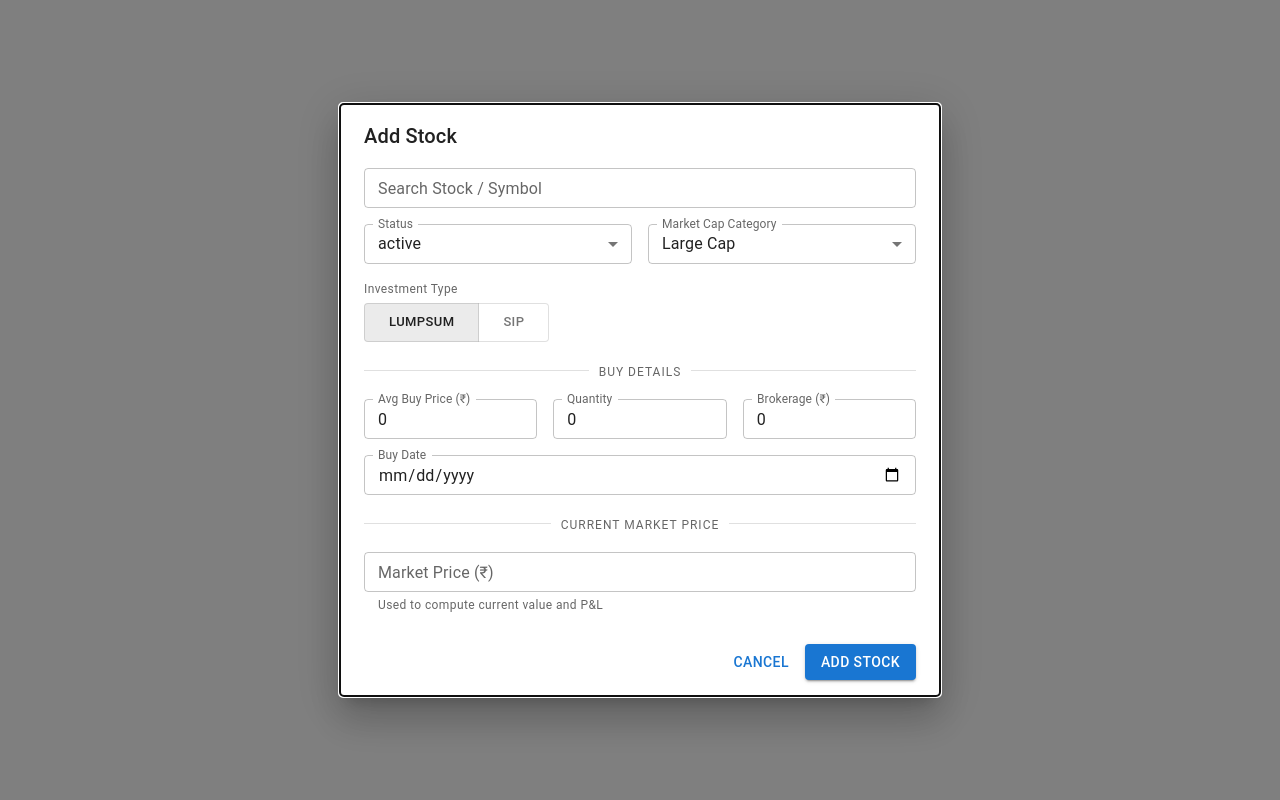
it: StocksDialog › market price below avg shows error color in P&L helper (L439 false)
Replace the text in the number field labelled "Avg Buy Price (₹)" with "200". click: (451,419)
box: [364,399,537,439]
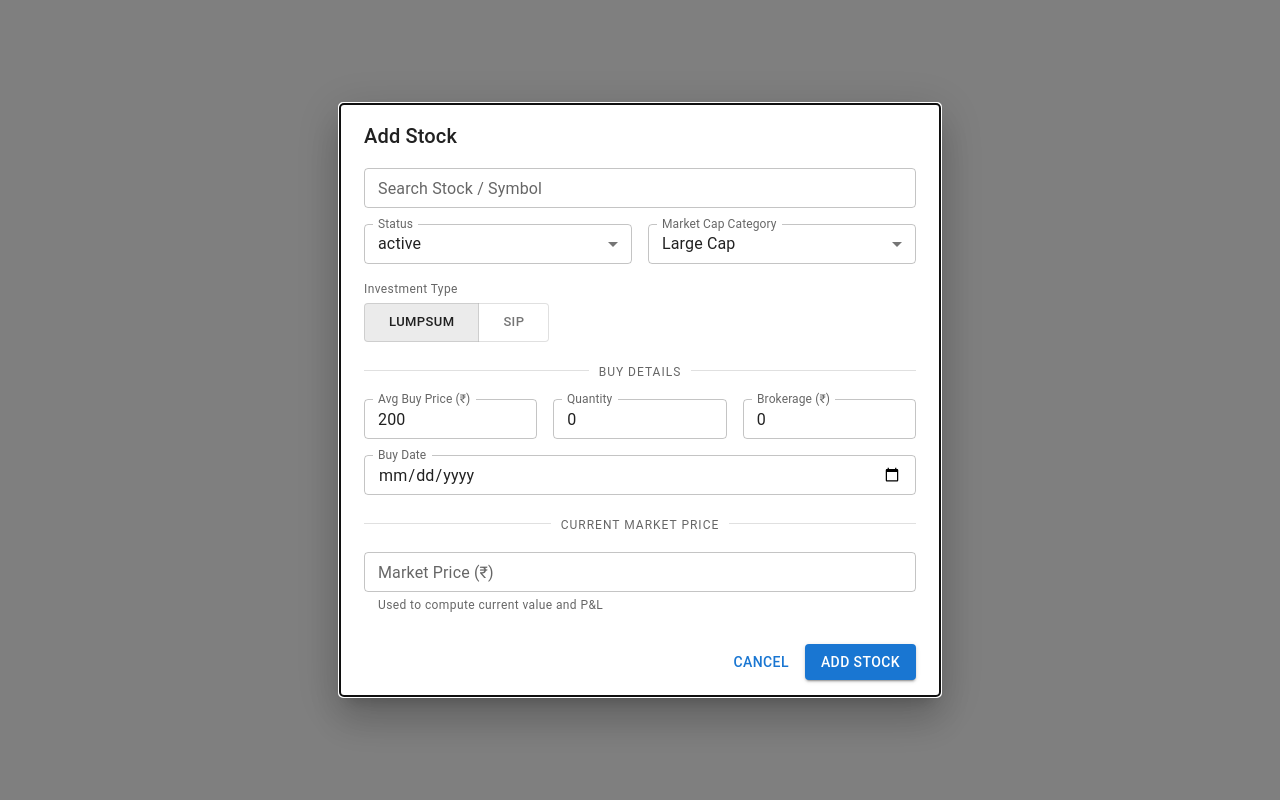
Replace the text in the number field labelled "Quantity" with "5". click: (640,419)
box: [553,399,727,439]
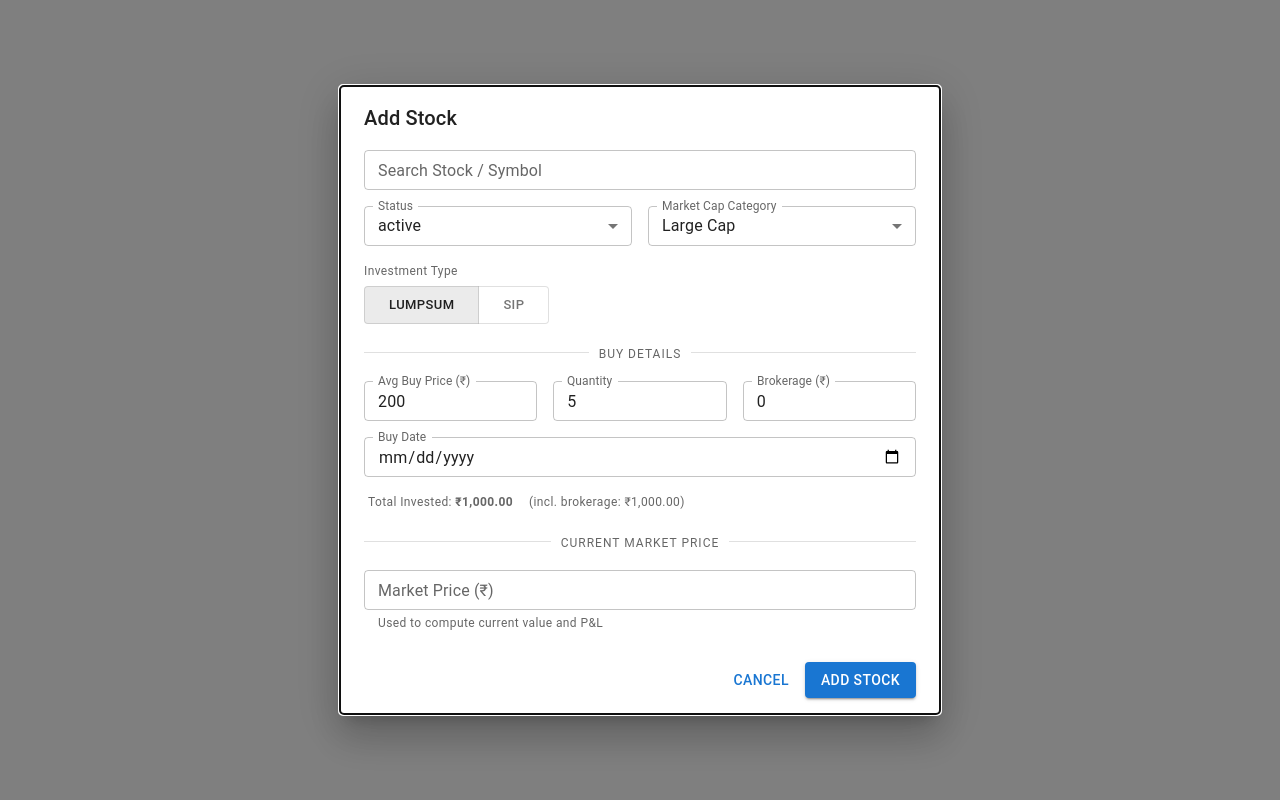
Type "150" into the number field labelled "Market Price (₹)". click: (640,590)
box: [364,570,916,610]
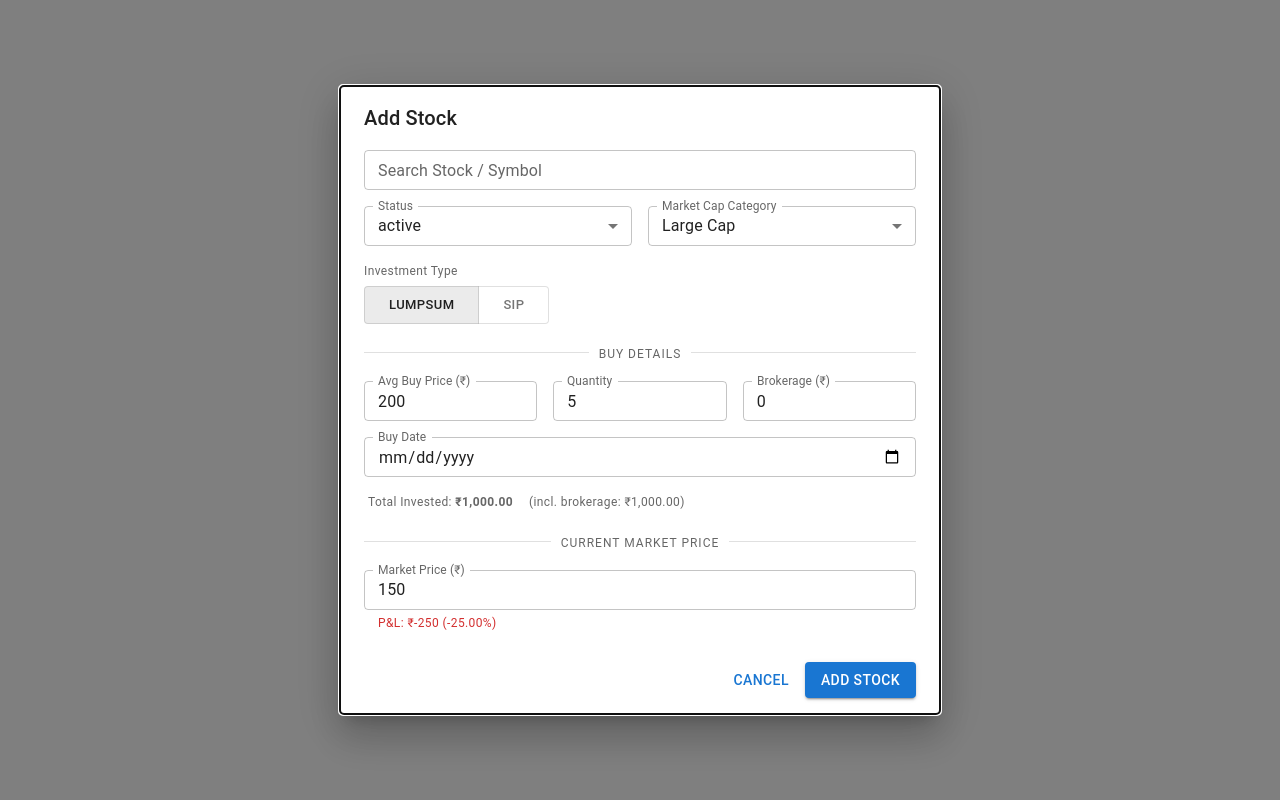
Check: the text "P&L: ₹-250 (-25.00%)" is shown, box [378,616,497,630]
